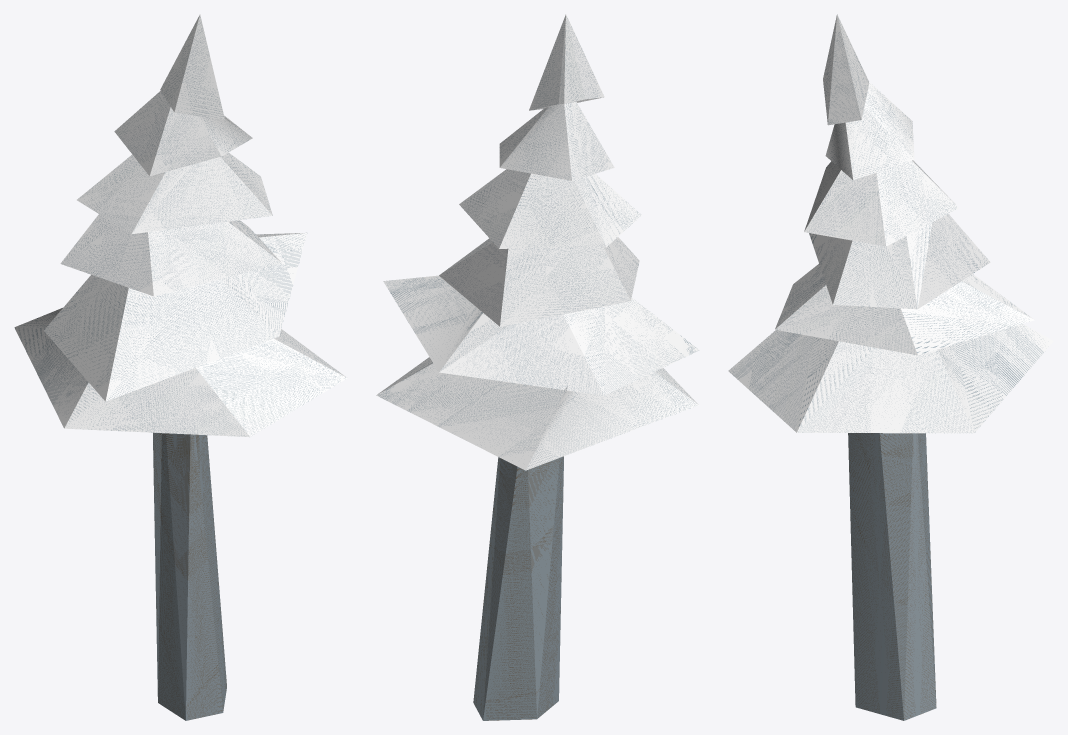
Rendered from Tree_Pine_Snow_Tall_04.fbx.
3 views of the same model, side by side, from view 1: azimuth 30°, elevation 25°; view 2: azimuth 150°, elevation 25°; view 3: azimuth 270°, elevation 25° (orthographic). The views are drawn at different scales.
Parts seen in each view (by area): view 1: Model; view 2: Model; view 3: Model.
Boxes of the visible parts, x1,y1,x2,y2 form: Model: (14,14,347,720); Model: (376,14,699,720); Model: (728,14,1053,720).
Bounding box in the file's own units: 994 × 2355 × 1025.
